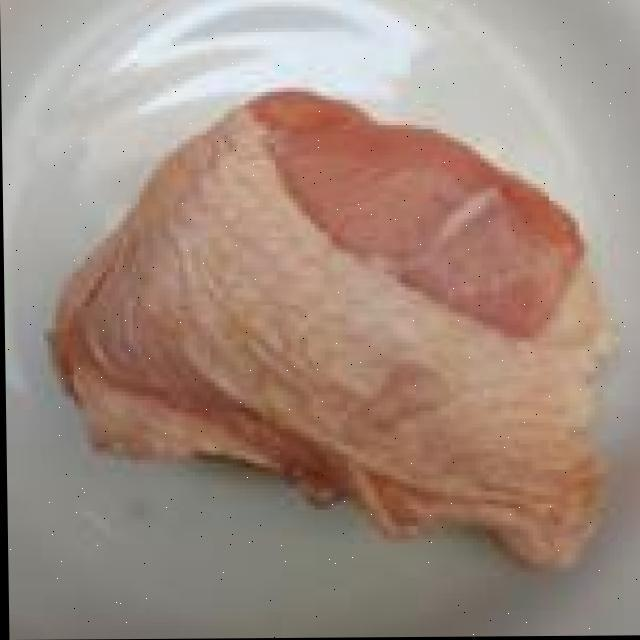breast: (52, 90, 613, 564)
